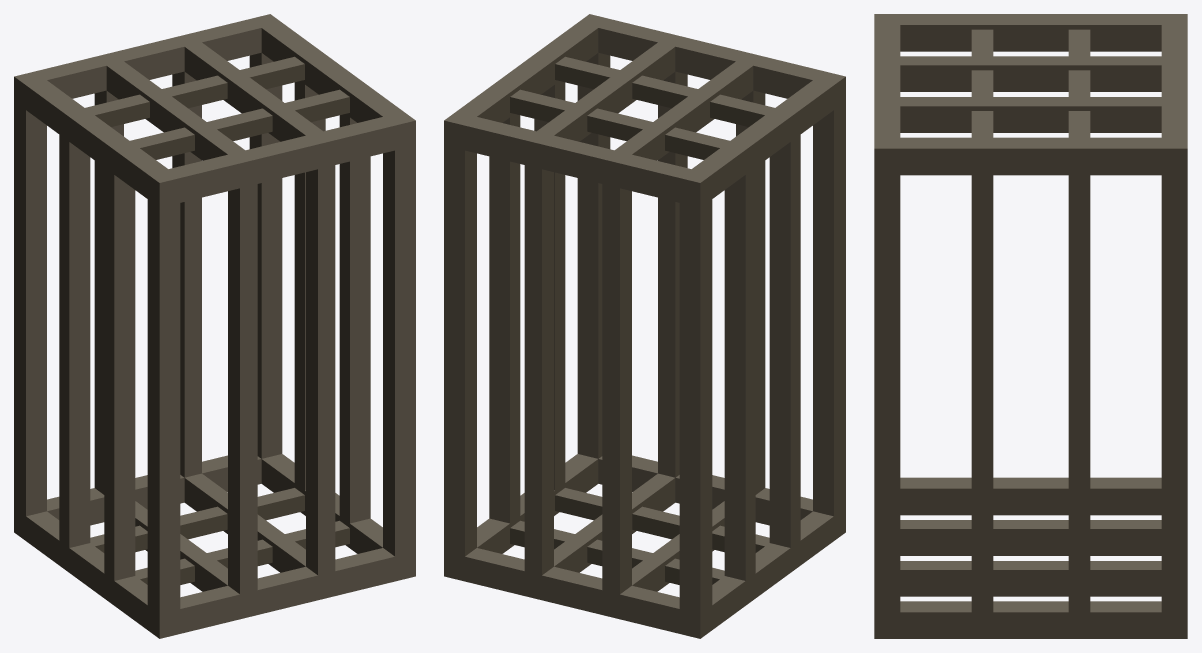
Rendered from Cage.gltf.
3 views of the same model, side by side, from view 1: azimuth 30°, elevation 25°; view 2: azimuth 150°, elevation 25°; view 3: azimuth 270°, elevation 25° (orthographic). The views are drawn at different scales.
Parts seen in each view (by area): view 1: SF_Prop_Cage_01; view 2: SF_Prop_Cage_01; view 3: SF_Prop_Cage_01.
Part boxes in pixels (bbox=[...]): SF_Prop_Cage_01: bbox=[14, 14, 415, 638]; SF_Prop_Cage_01: bbox=[444, 14, 845, 638]; SF_Prop_Cage_01: bbox=[874, 14, 1187, 638].
Bounding box in the file's own units: 0.0213 × 0.0362 × 0.021.
1 material, 1 textured.
